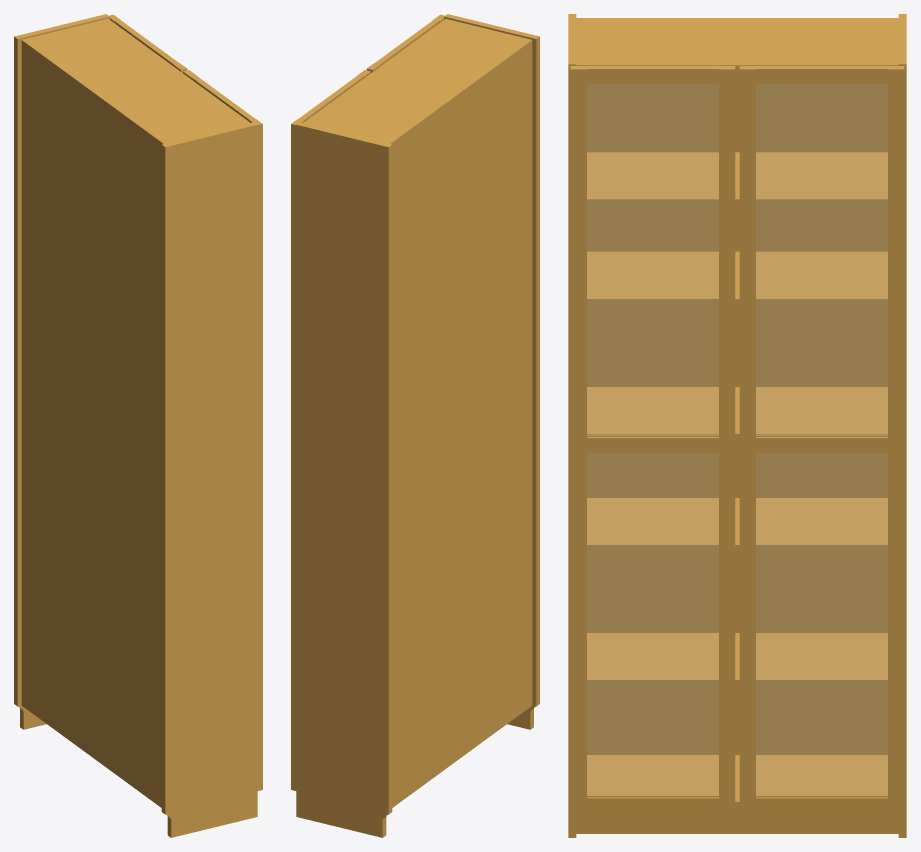
File: bookshelf.dae
The picture shows the model from 3 angles, left to right: view 1: azimuth 30°, elevation 25°; view 2: azimuth 150°, elevation 25°; view 3: azimuth 270°, elevation 25°; orthographic projection. The views are drawn at different scales.
Parts seen in each view (by area): view 1: Cube; view 2: Cube; view 3: Cube.
Boxes of the visible parts, x1,y1,x2,y2 form: Cube: [14, 14, 262, 837]; Cube: [291, 14, 539, 837]; Cube: [568, 14, 906, 837].
Size of the model in its own units: 0.3 by 0.798 by 2.01.
